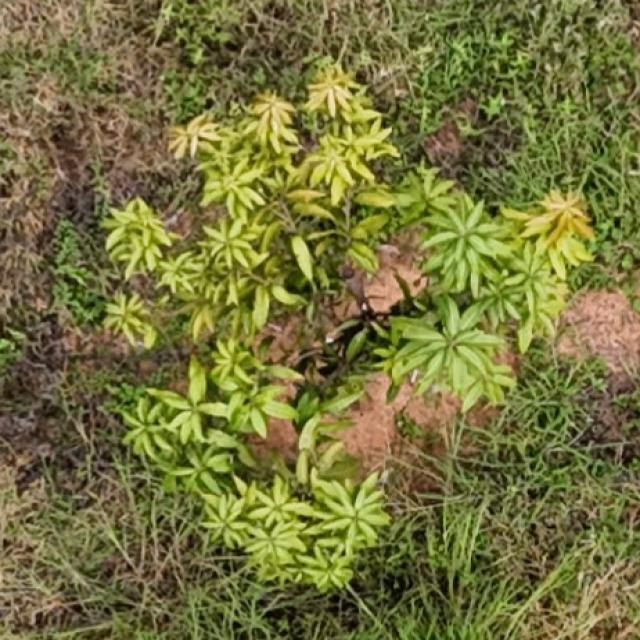mangoTree: (90, 61, 598, 594)
